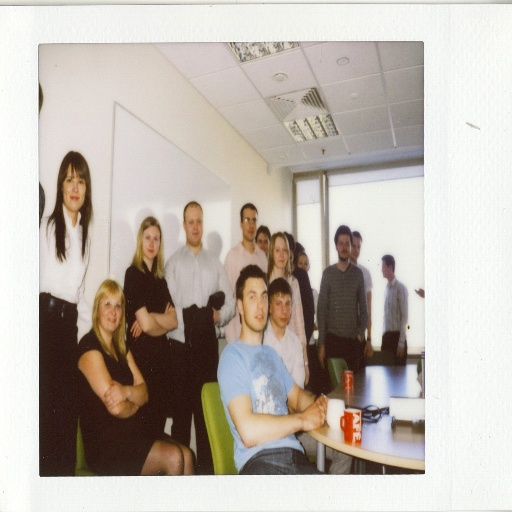hand: (300, 397, 325, 431), (103, 380, 123, 412), (129, 317, 141, 339), (317, 392, 326, 417), (317, 341, 325, 368), (363, 341, 374, 359), (210, 306, 219, 326), (304, 364, 311, 386), (164, 301, 174, 315), (396, 344, 404, 359), (132, 376, 138, 386)
